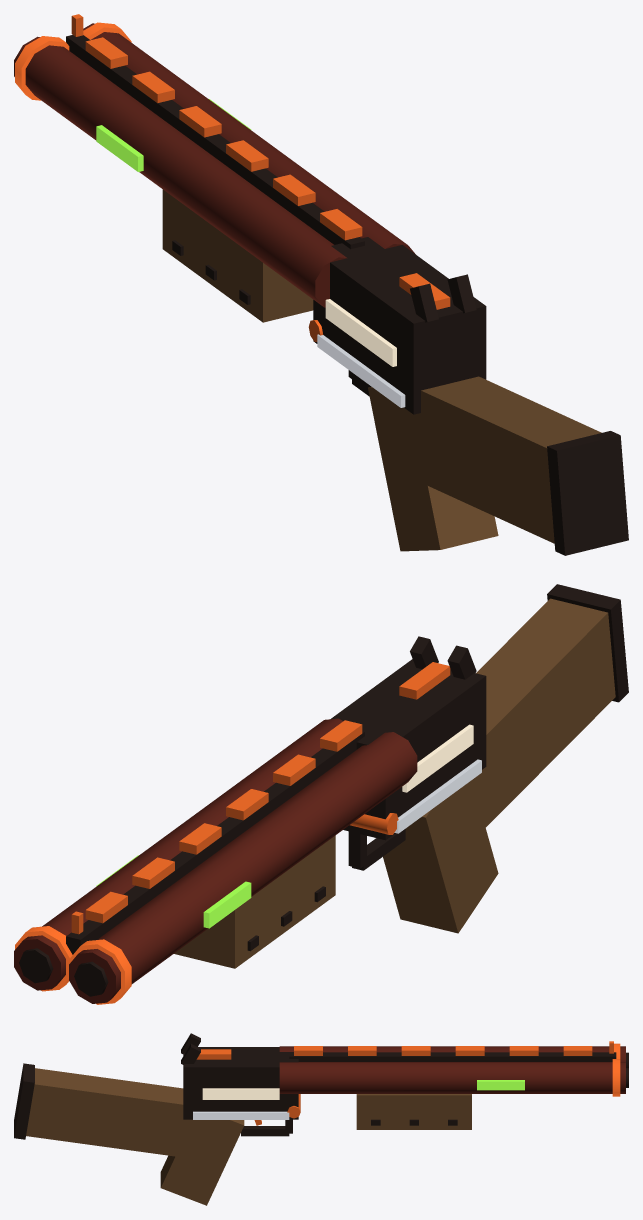
The model's file is BO_SK_Weapon_Magmashot_v001.glb.
3 renders of one model, top to bottom at view 1: azimuth 30°, elevation 25°; view 2: azimuth 150°, elevation 25°; view 3: azimuth 270°, elevation 25°, orthographic. The views are drawn at different scales.
Parts seen in each view (by area): view 1: body_001, body_026, body_017, body_028, body_027, body_032, body_000, body_002, glowfx_019, glowfx_021, glowfx_014, glowfx_012 (+8 smaller); view 2: body_001, body_026, body_028, body_017, body_032, body_000, body_002, body_027, glowfx_019, glowfx_021, glowfx_014, body_023 (+15 smaller); view 3: body_026, body_000, body_017, body_028, body_032, body_002, body_001, body_027, glowfx_018, glowfx_020, glowfx_011, body_029 (+9 smaller).
Boxes of the visible parts, box(x1,y1,x2,y2) form: body_001: box(14, 36, 347, 307); body_026: box(404, 376, 601, 543); body_017: box(313, 237, 486, 414); body_028: box(368, 387, 498, 551); body_027: box(547, 431, 628, 555); body_032: box(162, 189, 313, 322); body_000: box(83, 23, 415, 254); body_002: box(66, 35, 364, 249); glowfx_019: box(325, 299, 396, 366); glowfx_021: box(317, 334, 405, 407); glowfx_014: box(15, 36, 69, 100); glowfx_012: box(96, 125, 143, 171); body_001: box(69, 732, 417, 1003); body_026: box(472, 598, 615, 827); body_028: box(383, 780, 498, 933); body_017: box(330, 659, 486, 840); body_032: box(174, 835, 335, 968); body_000: box(14, 718, 343, 990); body_002: box(66, 731, 364, 954); body_027: box(547, 584, 628, 702); glowfx_019: box(402, 724, 473, 792); glowfx_021: box(394, 759, 481, 833); glowfx_014: box(70, 939, 131, 1004); body_023: box(399, 662, 450, 699); body_026: box(26, 1068, 203, 1159); body_000: box(279, 1062, 625, 1093); body_017: box(183, 1047, 298, 1119); body_028: box(160, 1120, 244, 1205); body_032: box(356, 1094, 471, 1129); body_002: box(289, 1052, 616, 1061); body_001: box(279, 1046, 625, 1061); body_027: box(14, 1063, 34, 1139); glowfx_018: box(202, 1088, 279, 1099); glowfx_020: box(193, 1111, 289, 1119); glowfx_011: box(477, 1080, 524, 1090); body_029: box(241, 1126, 289, 1136).
Bounding box in the file's own units: 0.078 × 0.1807 × 0.6389.
